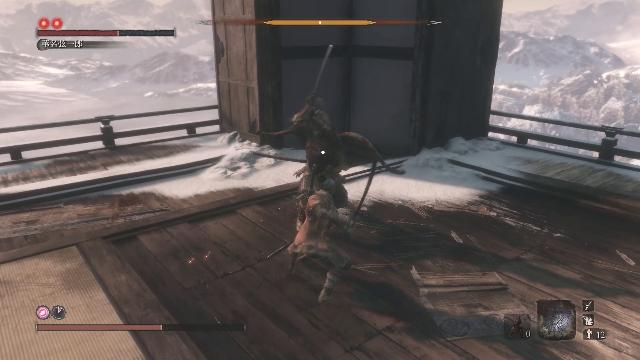sk: (282, 174, 357, 309)
